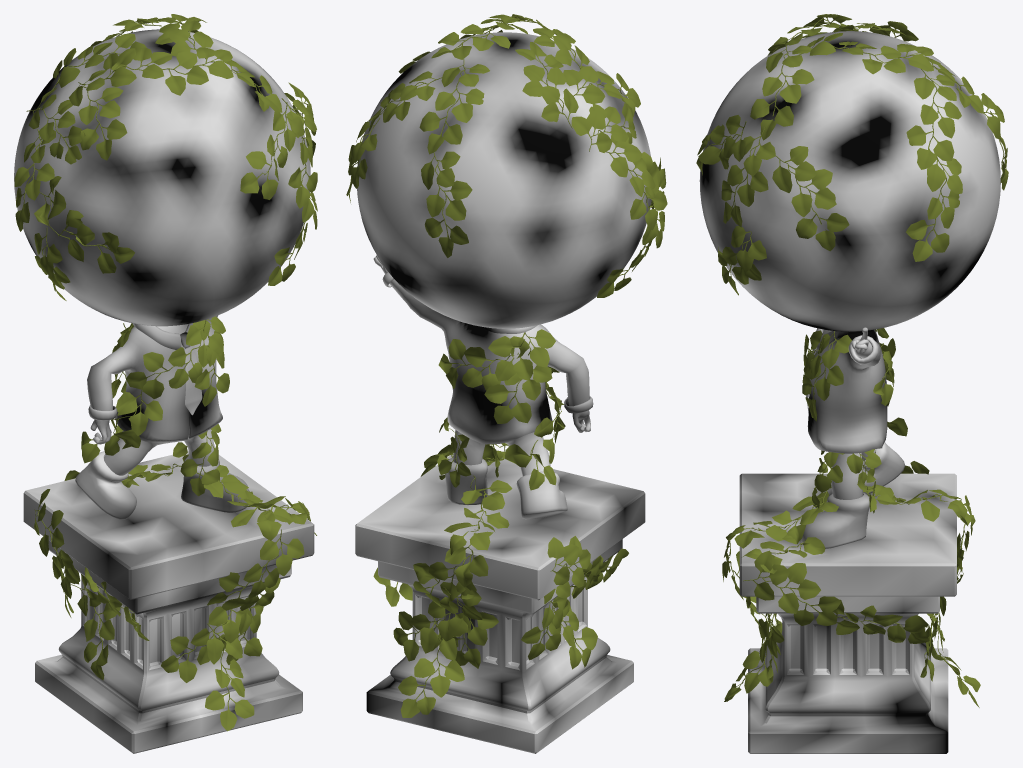
File: Statue-ivy (1).fbx
3 views of the same model, side by side, from view 1: azimuth 30°, elevation 25°; view 2: azimuth 150°, elevation 25°; view 3: azimuth 270°, elevation 25° (orthographic).
Parts seen in each view (by area): view 1: rere_Statue, Statue-bottom, ivy-vineGroup.020, ivy-vineGroup.026, ivy-vineGroup.016, ivy-vineGroup.009, ivy-vineGroup.014, ivy-vineGroup.032, ivy-vineGroup.019, ivy-vineGroup.007, ivy-vineGroup.023, ivy-vineGroup.045 (+17 smaller); view 2: rere_Statue, Statue-bottom, ivy-vineGroup.035, ivy-vineGroup.030, ivy-vineGroup.029, ivy-vineGroup.044, ivy-vineGroup.036, ivy-vineGroup.043, ivy-vineGroup.028, ivy-vineGroup.046, ivy-vineGroup.042, ivy-vineGroup.017 (+16 smaller); view 3: rere_Statue, Statue-bottom, ivy-vineGroup.033, ivy-vineGroup.047, ivy-vineGroup.038, ivy-vineGroup.039, ivy-vineGroup.025, ivy-vineGroup.024, ivy-vineGroup.048, ivy-vineGroup.045, ivy-vineGroup.034, ivy-vineGroup.021 (+16 smaller).
Boxes of the visible parts, x1,y1,x2,y2 form: rere_Statue: (14,29,310,519); Statue-bottom: (23,451,314,753); ivy-vineGroup.020: (126,319,223,398); ivy-vineGroup.026: (103,47,208,95); ivy-vineGroup.016: (34,176,134,273); ivy-vineGroup.009: (207,529,304,610); ivy-vineGroup.014: (205,619,254,731); ivy-vineGroup.032: (69,70,127,160); ivy-vineGroup.019: (81,390,162,463); ivy-vineGroup.007: (161,606,252,682); ivy-vineGroup.023: (240,102,304,199); ivy-vineGroup.045: (197,465,292,540); rere_Statue: (357,32,651,519); Statue-bottom: (355,453,645,753); ivy-vineGroup.035: (421,151,472,257); ivy-vineGroup.030: (484,329,555,423); ivy-vineGroup.029: (438,336,532,390); ivy-vineGroup.044: (398,618,464,717); ivy-vineGroup.036: (419,59,489,154); ivy-vineGroup.043: (413,543,488,606); ivy-vineGroup.028: (515,42,578,128); ivy-vineGroup.046: (444,475,512,554); ivy-vineGroup.042: (439,587,498,668); ivy-vineGroup.017: (606,130,667,229); rere_Statue: (699,31,1000,548); Statue-bottom: (739,473,956,753); ivy-vineGroup.033: (772,146,849,251); ivy-vineGroup.047: (743,550,841,625); ivy-vineGroup.038: (906,69,961,169); ivy-vineGroup.039: (906,156,962,261); ivy-vineGroup.025: (750,44,814,140); ivy-vineGroup.024: (721,127,775,227); ivy-vineGroup.048: (832,599,929,643); ivy-vineGroup.045: (726,490,838,548); ivy-vineGroup.034: (718,226,766,295); ivy-vineGroup.021: (802,331,851,421).
Size of the model in its own units: 1.75 by 1.84 by 4.2.
